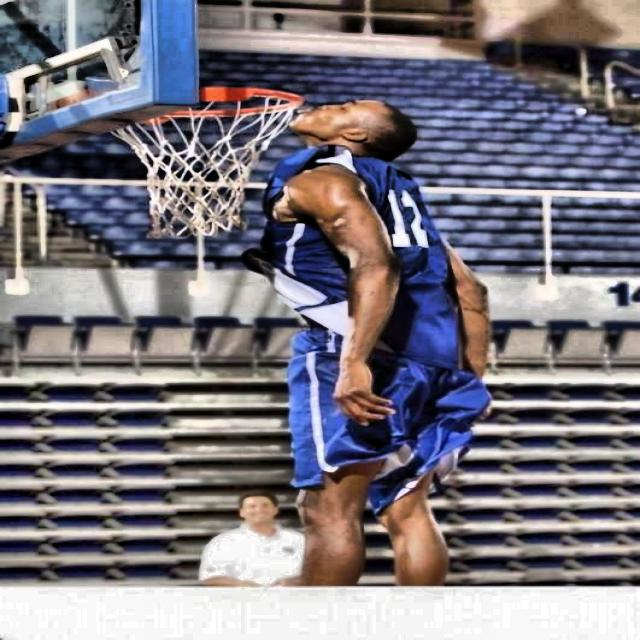rim: (112, 88, 303, 236)
